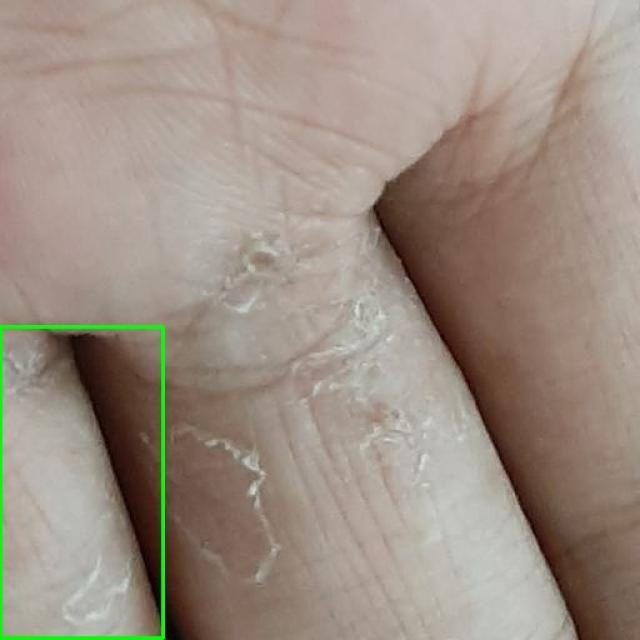Atopic Dermatitis: (0, 328, 164, 639)
